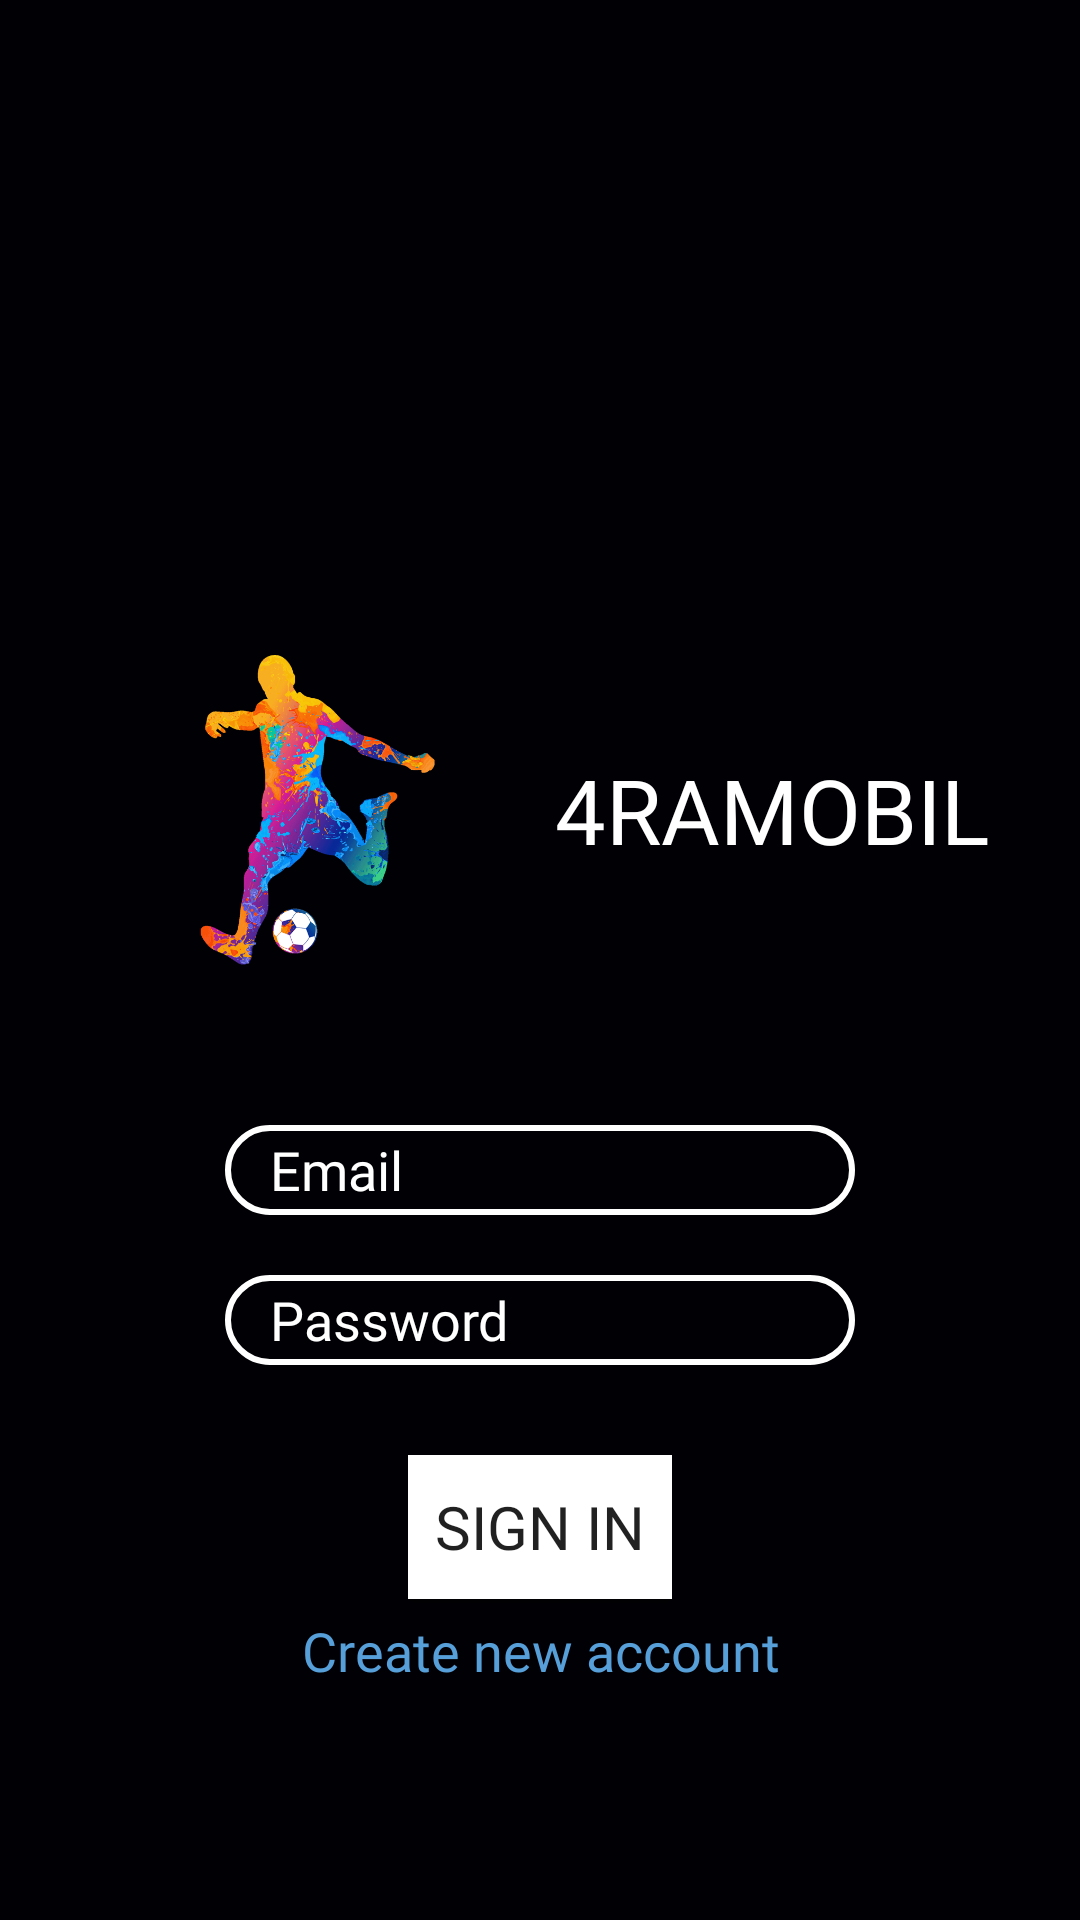

Where icons sit on this 1080×1920 app screen, as bbox=(x1, y1, x2, y2):
football player: bbox=(200, 655, 435, 965)
